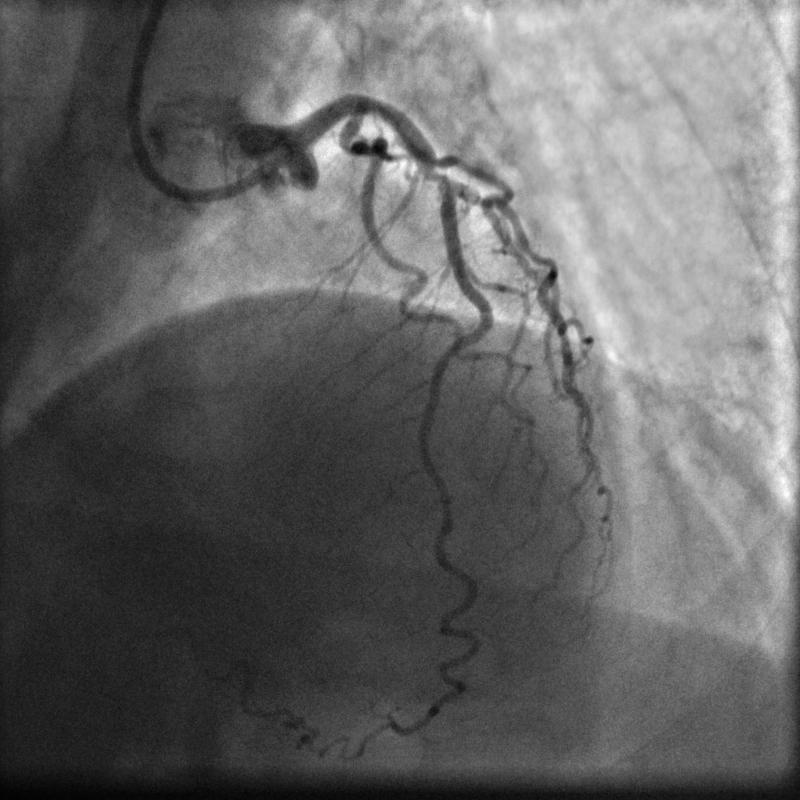Stenosis: (418, 162, 456, 188)
